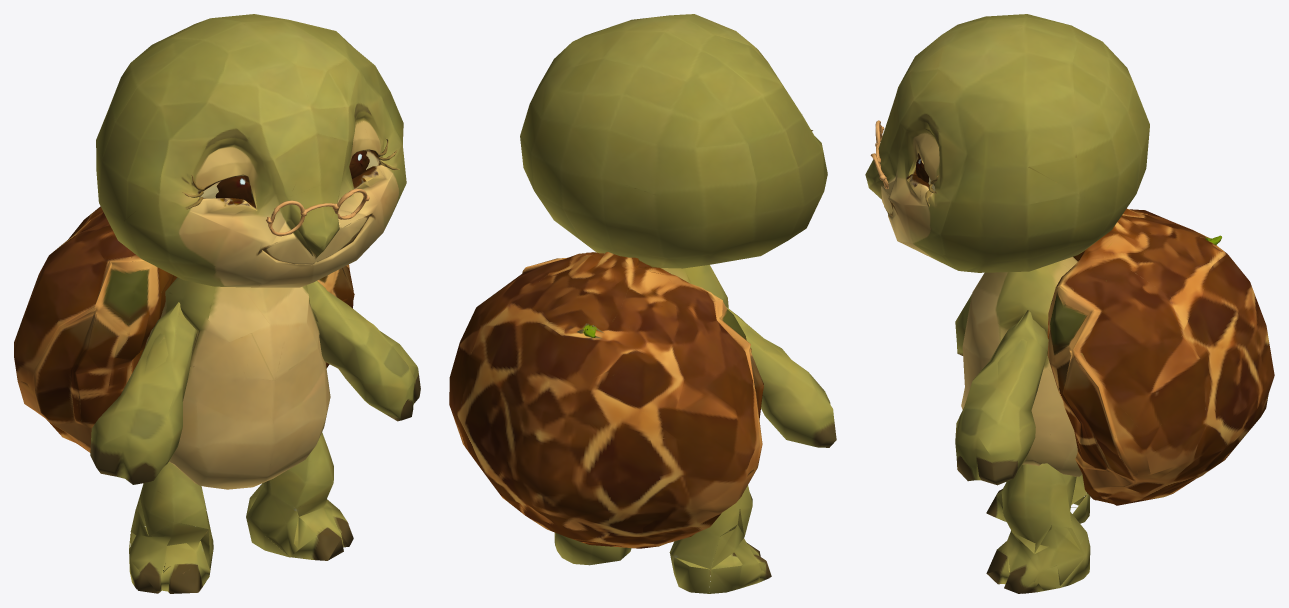
The model's file is mabel_lowpoly_3d.glb.
3 views of the same model, side by side, from view 1: azimuth 30°, elevation 25°; view 2: azimuth 150°, elevation 25°; view 3: azimuth 270°, elevation 25° (orthographic). The views are drawn at different scales.
Visible parts, largest first — view 1: geometry_0; view 2: geometry_0; view 3: geometry_0.
Boxes of the visible parts, bbox=[...] form: geometry_0: bbox=[14, 14, 420, 593]; geometry_0: bbox=[449, 14, 836, 593]; geometry_0: bbox=[865, 14, 1274, 593].
Size of the model in its own units: 0.5972 by 0.9517 by 0.6821.
Materials: 1 (1 with a texture image).
